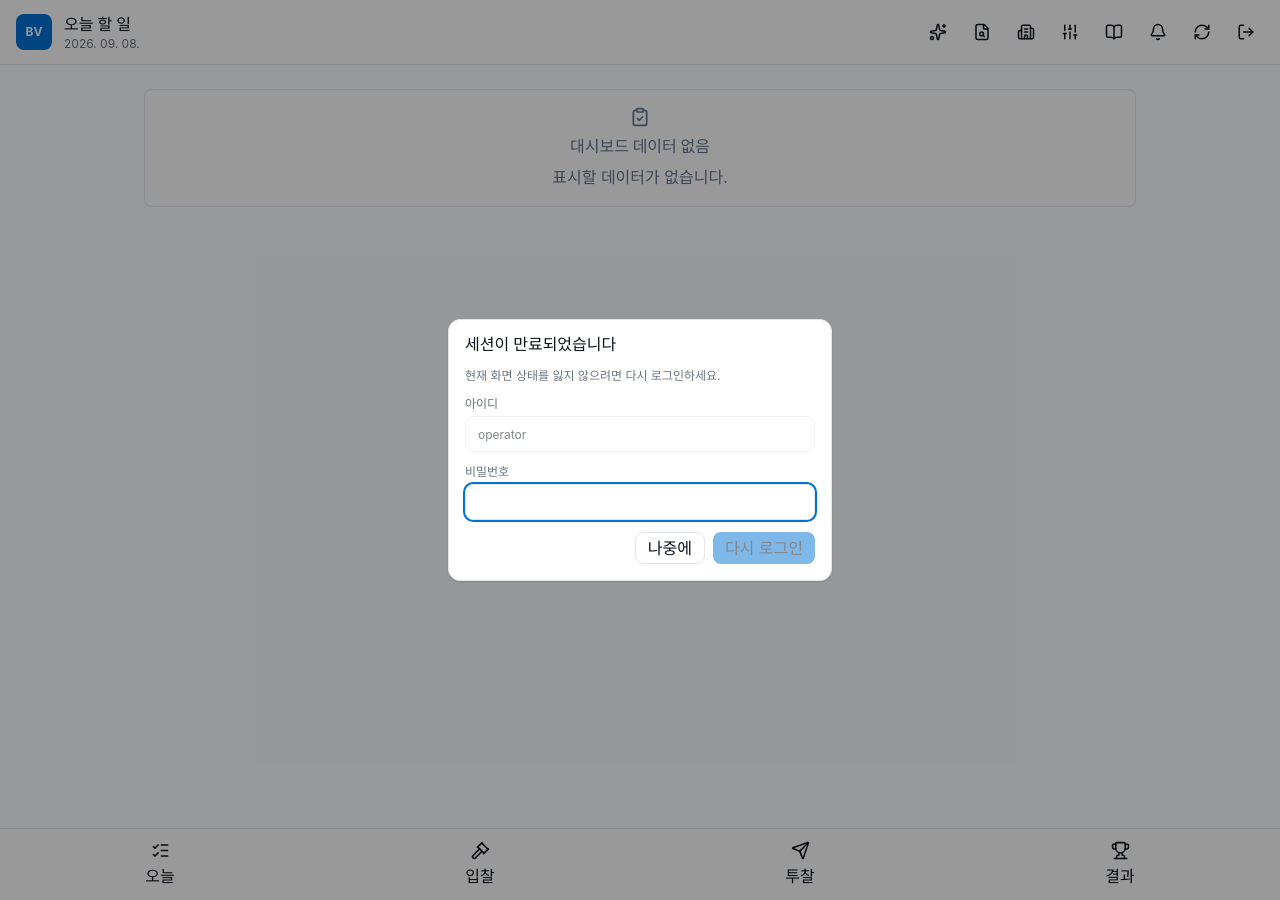
it: SessionExpiredModal › 백드롭 클릭으로 닫힌다
Click on the dialog root itself (the backdrop) — not on the inner Card.
Click the dialog "세션이 만료되었습니다".
click(77, 450)  # box [0,0,1279,899]
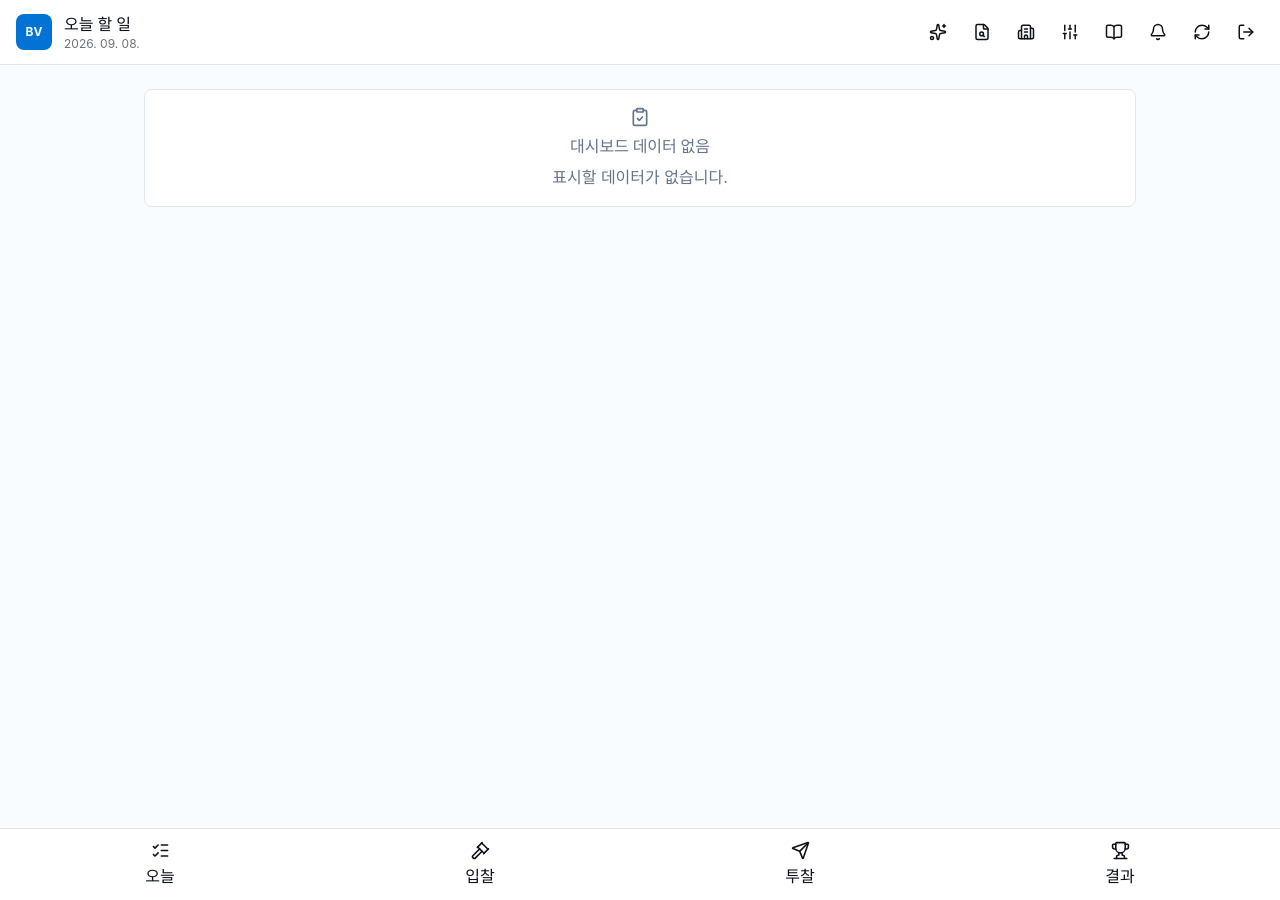
Now the heading "세션이 만료되었습니다" is gone
